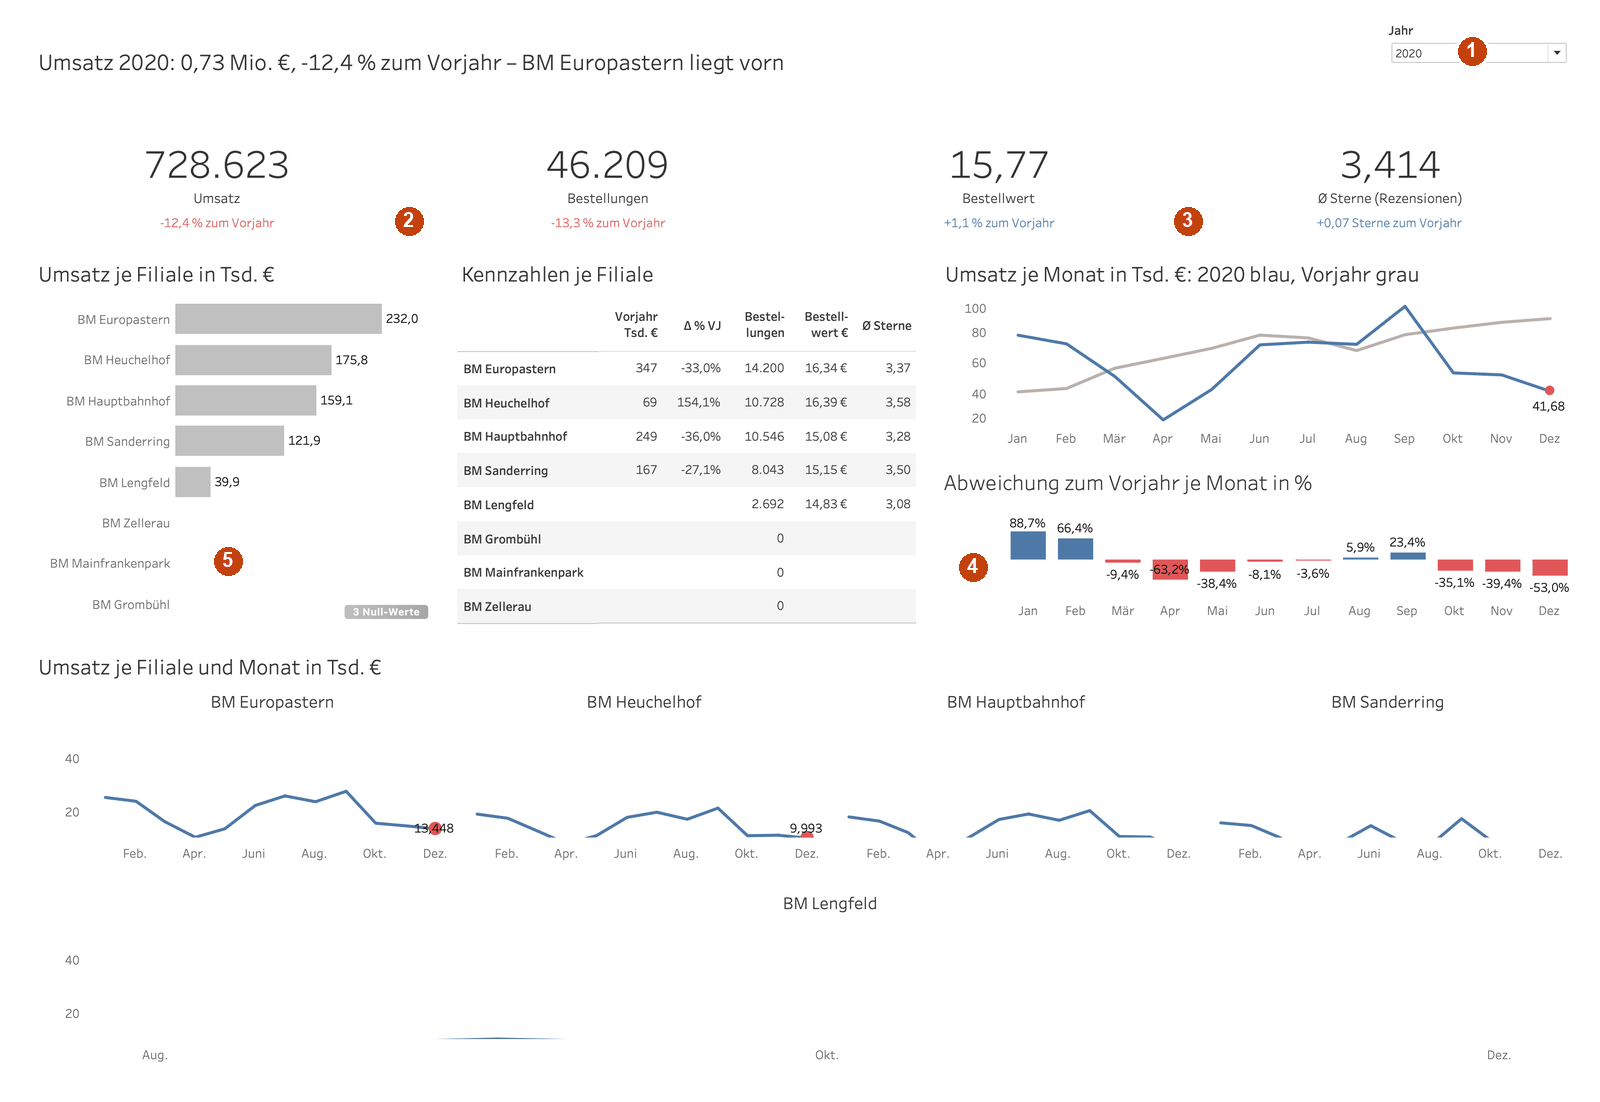

Layout of this report page (visuals, bound fields, positions):
{"tool":"tableau","page":{"name":"Dashboard 1","canvas":[1600,1000],"ordinal":0},"visuals":[{"type":"worksheet","title":"Titel","mark":"Automatic","box":[8,8,792,80]},{"type":"worksheet","title":"Umsatz je Monat","mark":"Automatic","rows":["Calculation_5100132365418516"],"cols":["date"],"box":[800,8,792,246]},{"type":"parameter","param":"[Parameters].[Parameter 5100132363096068]","box":[1432,8,160,52]},{"type":"worksheet","title":"Karte Umsatz","mark":"Automatic","box":[8,88,198,166]},{"type":"worksheet","title":"Karte Bestellungen","mark":"Automatic","box":[206,88,198,166]},{"type":"worksheet","title":"Karte Bestellwert","mark":"Automatic","box":[404,88,198,166]},{"type":"worksheet","title":"Karte Sterne","mark":"Automatic","box":[602,88,198,166]},{"type":"worksheet","title":"Filialen Umsatz","mark":"Automatic","rows":["branch_name"],"cols":["Calculation_5100132365291538"],"box":[8,254,297,246]},{"type":"worksheet","title":"Filialen Kennzahlen","mark":"Automatic","rows":["branch_name"],"box":[305,254,495,246]},{"type":"worksheet","title":"Abweichung je Monat","mark":"Bar","rows":["Calculation_5100132363948041"],"cols":["date"],"box":[800,254,792,246]},{"type":"worksheet","title":"Filialen je Monat","mark":"Automatic","rows":["branch_name","Calculation_5100132365291538","Calculation_5100132365418516"],"cols":["date"],"box":[8,500,1584,492]}]}

Visuals, with their boxes on the page's 1600x1000 design canvas (x1, y1, x2, y2). These are canvas units, not pixel positions in the 1600x1102 screenshot, which may show the page scaled, cropped or inside an application window:
"Titel" worksheet: [8, 8, 800, 88]
"Umsatz je Monat" worksheet: [800, 8, 1592, 254]
parameter: [1432, 8, 1592, 60]
"Karte Umsatz" worksheet: [8, 88, 206, 254]
"Karte Bestellungen" worksheet: [206, 88, 404, 254]
"Karte Bestellwert" worksheet: [404, 88, 602, 254]
"Karte Sterne" worksheet: [602, 88, 800, 254]
"Filialen Umsatz" worksheet: [8, 254, 305, 500]
"Filialen Kennzahlen" worksheet: [305, 254, 800, 500]
"Abweichung je Monat" worksheet (Bar marks): [800, 254, 1592, 500]
"Filialen je Monat" worksheet: [8, 500, 1592, 992]
